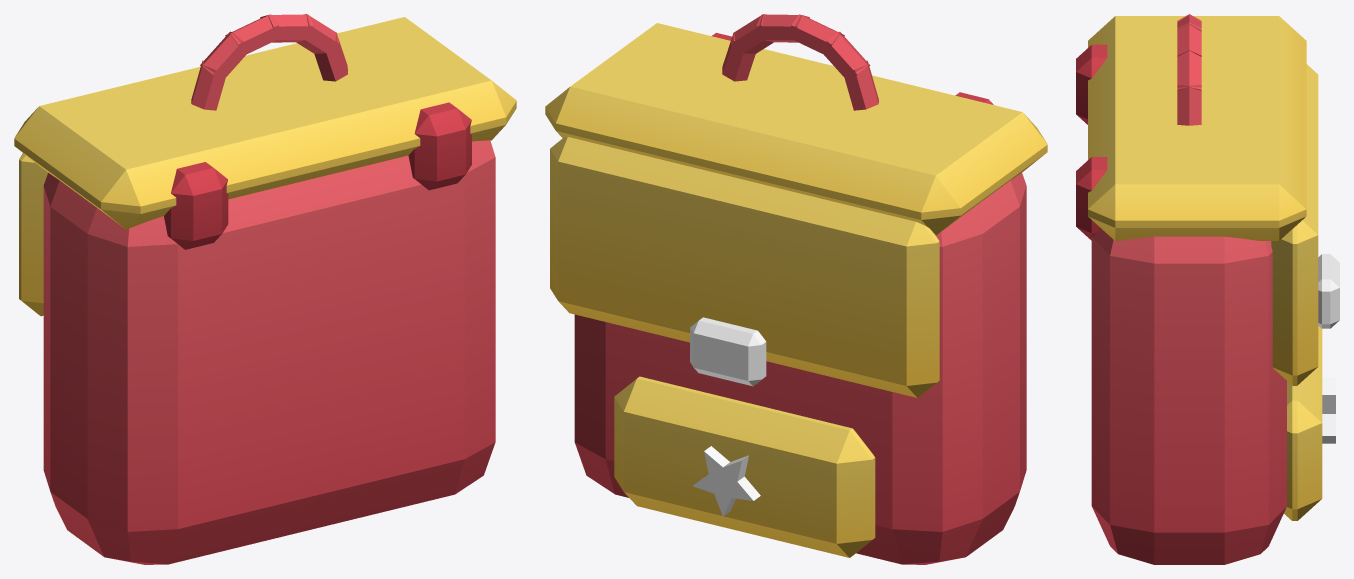
The model's file is backpack.glb.
3 renders of one model, left to right at view 1: azimuth 30°, elevation 25°; view 2: azimuth 150°, elevation 25°; view 3: azimuth 270°, elevation 25°, orthographic. The views are drawn at different scales.
Parts seen in each view (by area): view 1: backpack_body; view 2: backpack_body; view 3: backpack_body.
Boxes of the visible parts, bbox=[...] form: backpack_body: bbox=[14, 14, 516, 564]; backpack_body: bbox=[545, 14, 1047, 564]; backpack_body: bbox=[1076, 14, 1339, 564].
Bounding box in the file's own units: 0.58 × 0.6689 × 0.3375.
1 material, 1 textured.
